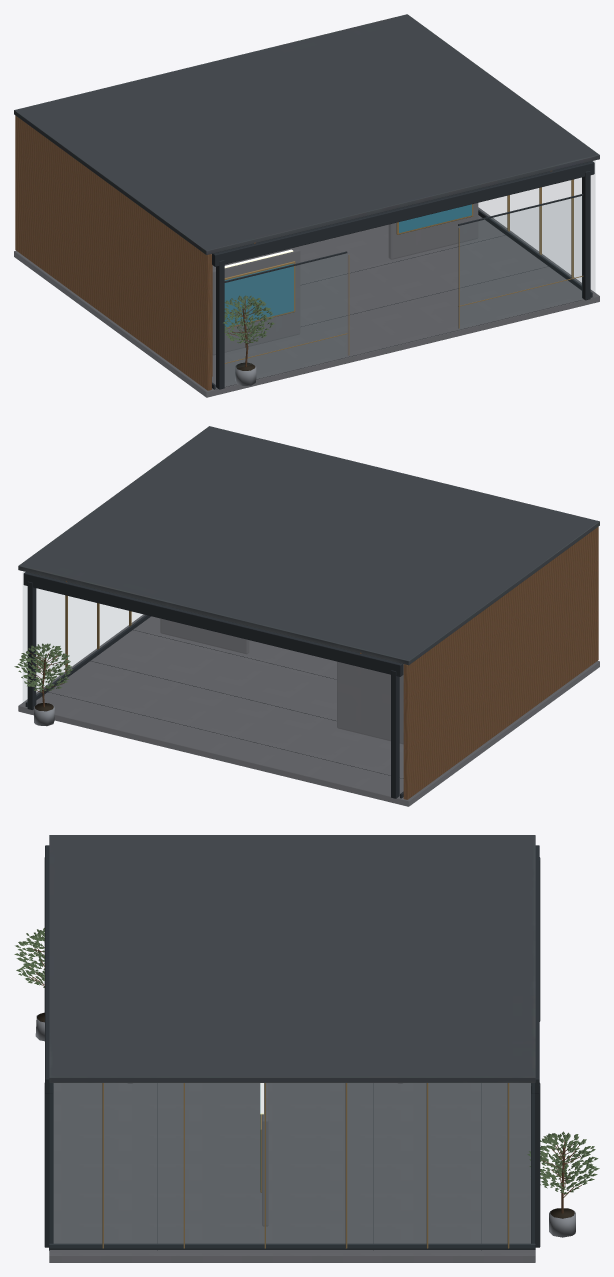
File: environment-3.glb
3 renders of one model, top to bottom at view 1: azimuth 30°, elevation 25°; view 2: azimuth 150°, elevation 25°; view 3: azimuth 270°, elevation 25°, orthographic. The views are drawn at different scales.
Parts seen in each view (by area): view 1: Continuous floor slab; view 2: Continuous floor slab; view 3: Continuous floor slab.
Part boxes in pixels (<box>): Continuous floor slab: <box>14,14,599,397</box>; Continuous floor slab: <box>14,426,599,806</box>; Continuous floor slab: <box>14,835,599,1262</box>.
Size of the model in its own units: 17 by 6.07 by 17.35.
Materials: 13 (4 with a texture image).
